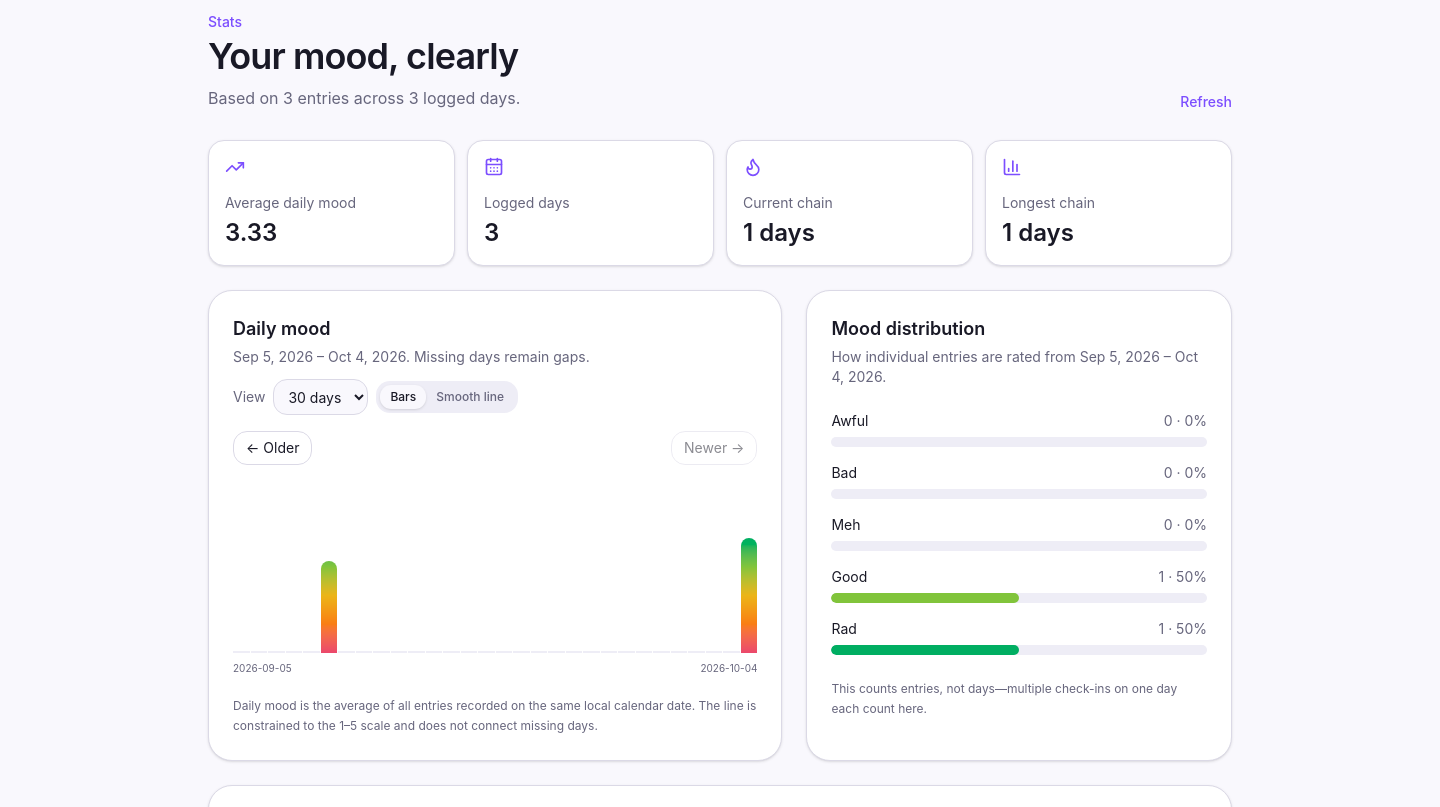
StatsPage ranges › renders the smooth view as a line without point markers
Check: the dropdown named "Daily mood range" is shown, box [273,379,368,415]
Click the button "Smooth line": (470, 397) [426,385,514,409]
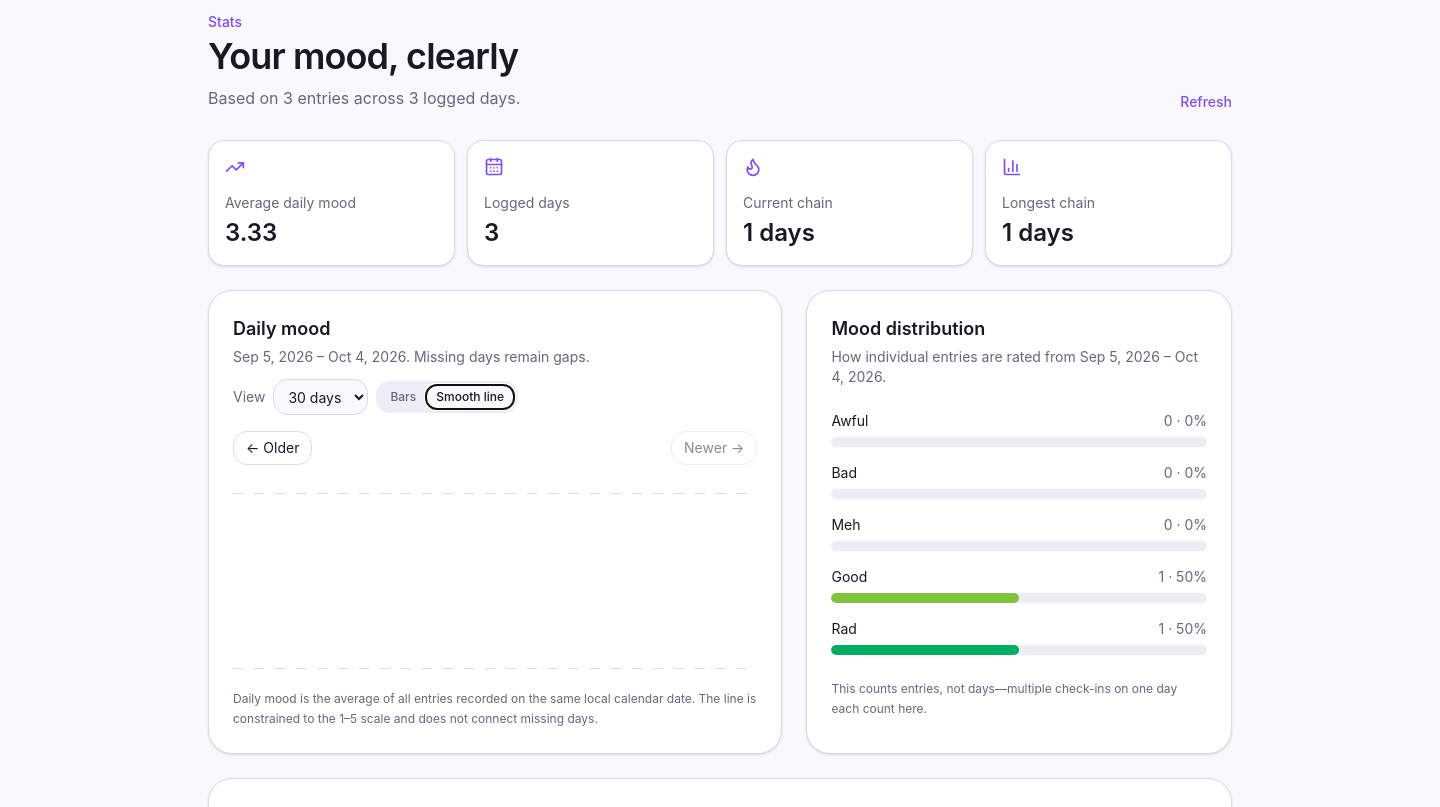
Check: the element named "Daily mood smooth line chart" is shown, box [233,493,758,669]
